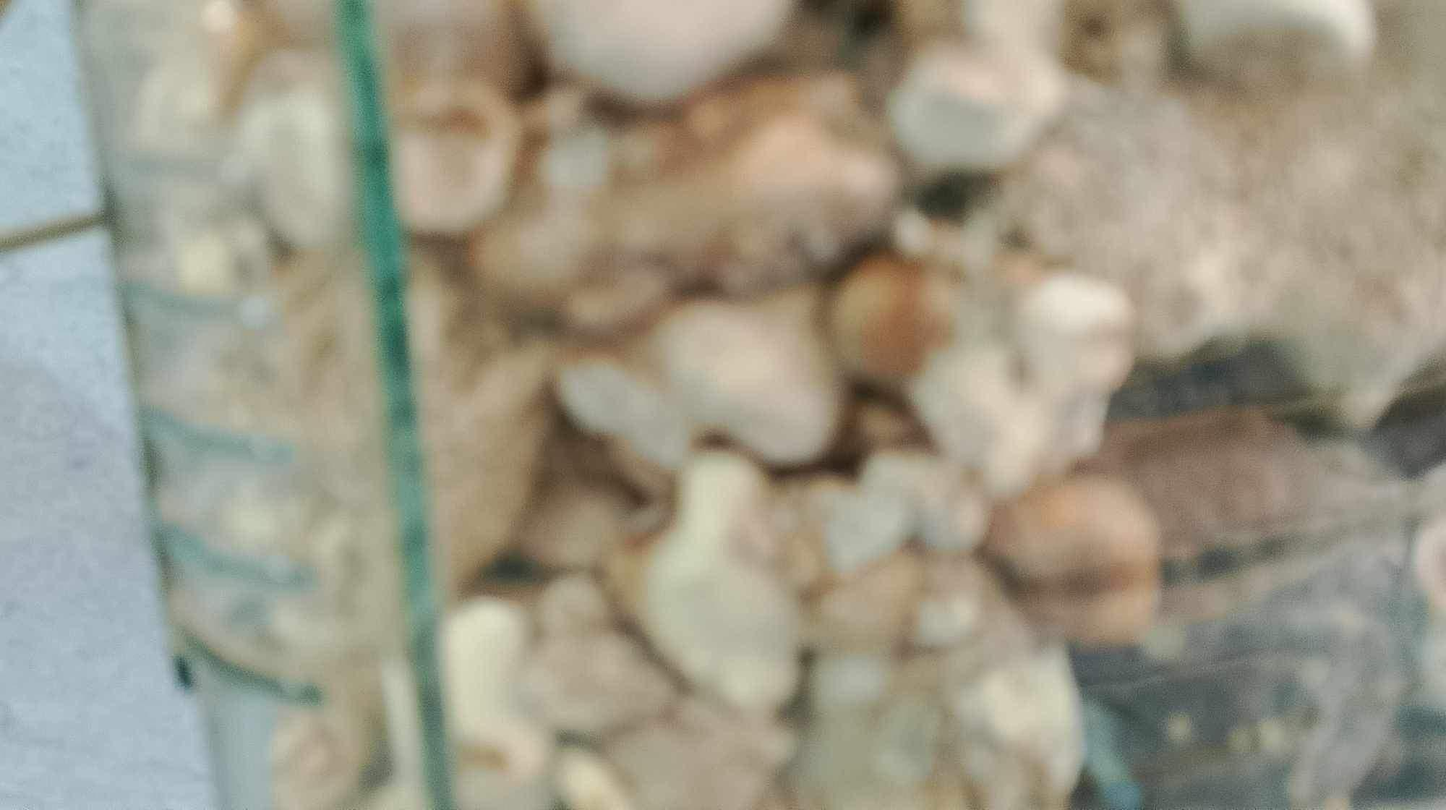General: (63, 4, 1437, 805), (63, 3, 458, 805)
Sharps: (328, 2, 461, 806)
